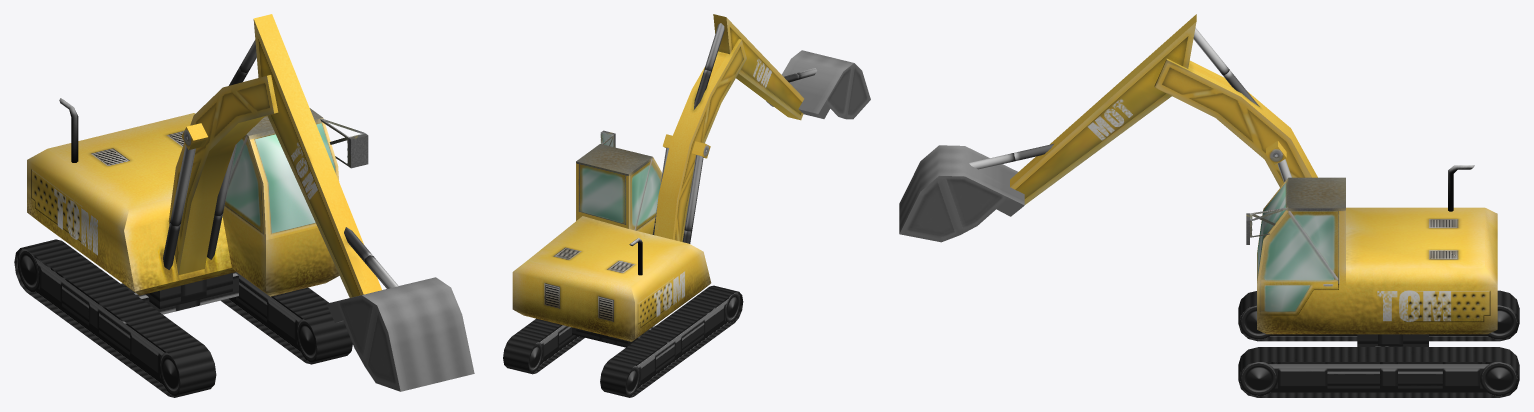
File: Excavator.fbx
3 renders of one model, left to right at view 1: azimuth 30°, elevation 25°; view 2: azimuth 150°, elevation 25°; view 3: azimuth 270°, elevation 25°, orthographic. The views are drawn at different scales.
Parts seen in each view (by area): view 1: Excavator, ExcWheels; view 2: Excavator, ExcWheels; view 3: Excavator, ExcWheels.
Boxes of the visible parts, x1,y1,x2,y2 form: Excavator: (27, 14, 474, 391); ExcWheels: (14, 239, 352, 397); Excavator: (512, 14, 870, 341); ExcWheels: (503, 285, 743, 397); Excavator: (899, 14, 1497, 334); ExcWheels: (1238, 290, 1519, 397).
Size of the model in its own units: 254 by 495 by 837.
1 material, 1 textured.
